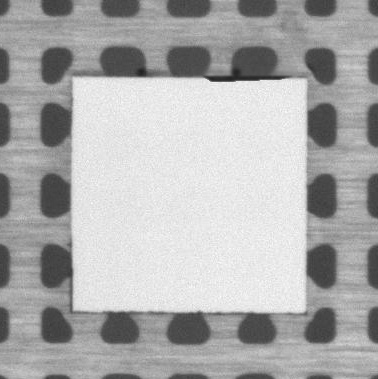DIE_BROKEN: (200, 72, 290, 84)
